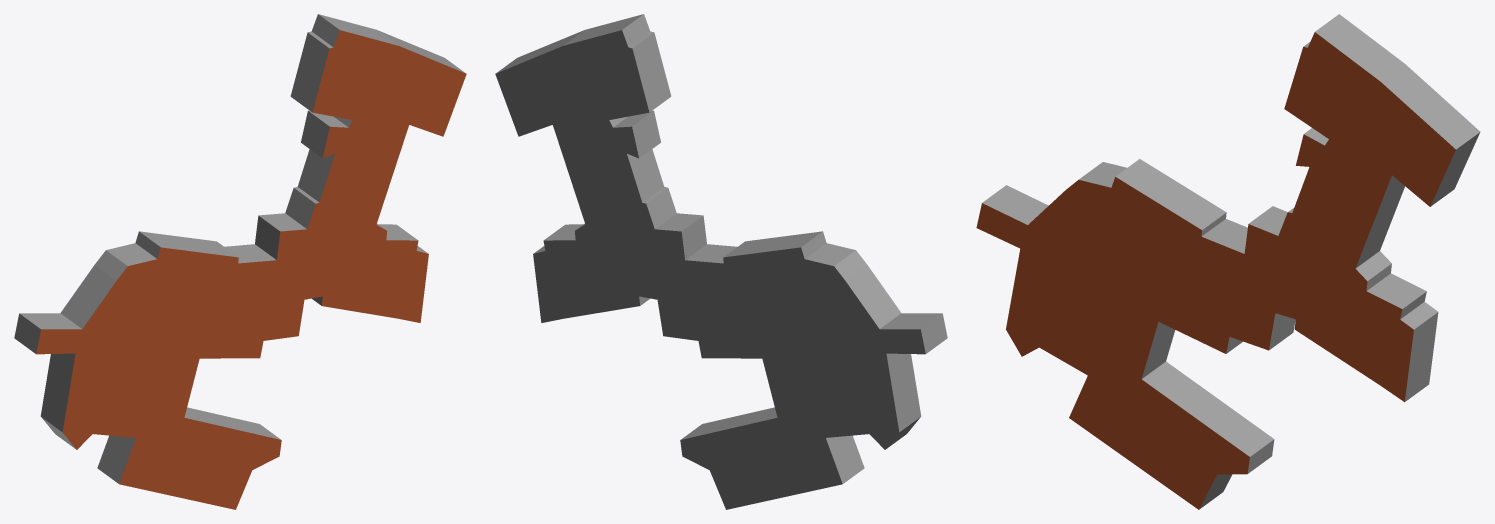
Rendered from construction_1005_assumed_A_Casa_h6m.obj.
The picture shows the model from 3 angles, left to right: view 1: azimuth 30°, elevation 25°; view 2: azimuth 150°, elevation 25°; view 3: azimuth 330°, elevation 25°; orthographic projection. The views are drawn at different scales.
Visible parts, largest first — view 1: construction_1005_assumed_A_Casa; view 2: construction_1005_assumed_A_Casa; view 3: construction_1005_assumed_A_Casa.
Part boxes in pixels (bbox=[...]): construction_1005_assumed_A_Casa: bbox=[14, 14, 466, 509]; construction_1005_assumed_A_Casa: bbox=[495, 14, 947, 509]; construction_1005_assumed_A_Casa: bbox=[976, 14, 1480, 509].
Bounding box in the file's own units: 67.93 × 68.53 × 6.
